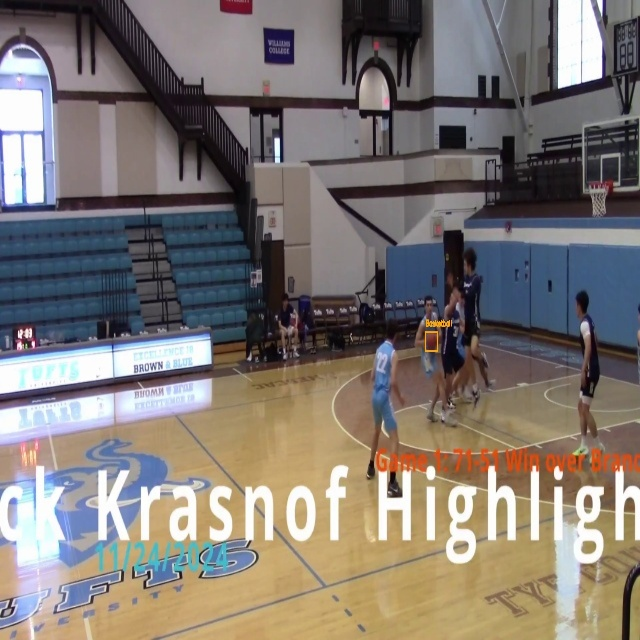Basketball: (426, 332, 438, 351)
